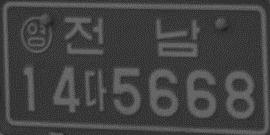1: (14, 64, 44, 112)
4: (51, 64, 81, 114)
5: (111, 66, 142, 115)
6: (184, 69, 218, 119), (146, 67, 179, 117)
8: (224, 70, 256, 120)
다: (83, 68, 107, 111)
영: (19, 15, 53, 54)
전남_D: (63, 16, 201, 58)
